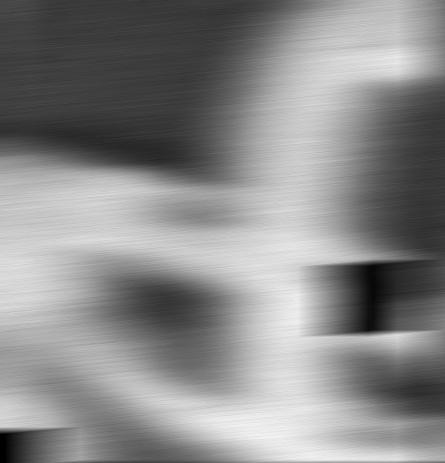Airbag: (0, 1, 444, 462), (425, 0, 445, 462)
